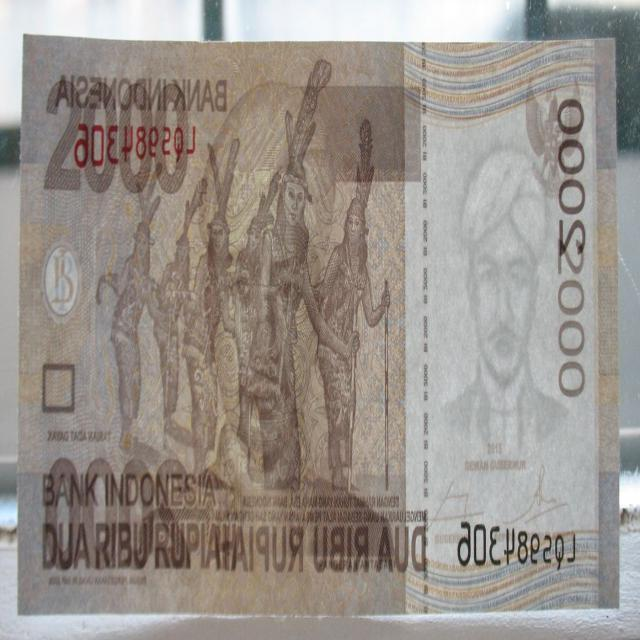dua ribu rupiah: (17, 36, 616, 620), (105, 88, 388, 489), (38, 444, 196, 588)
